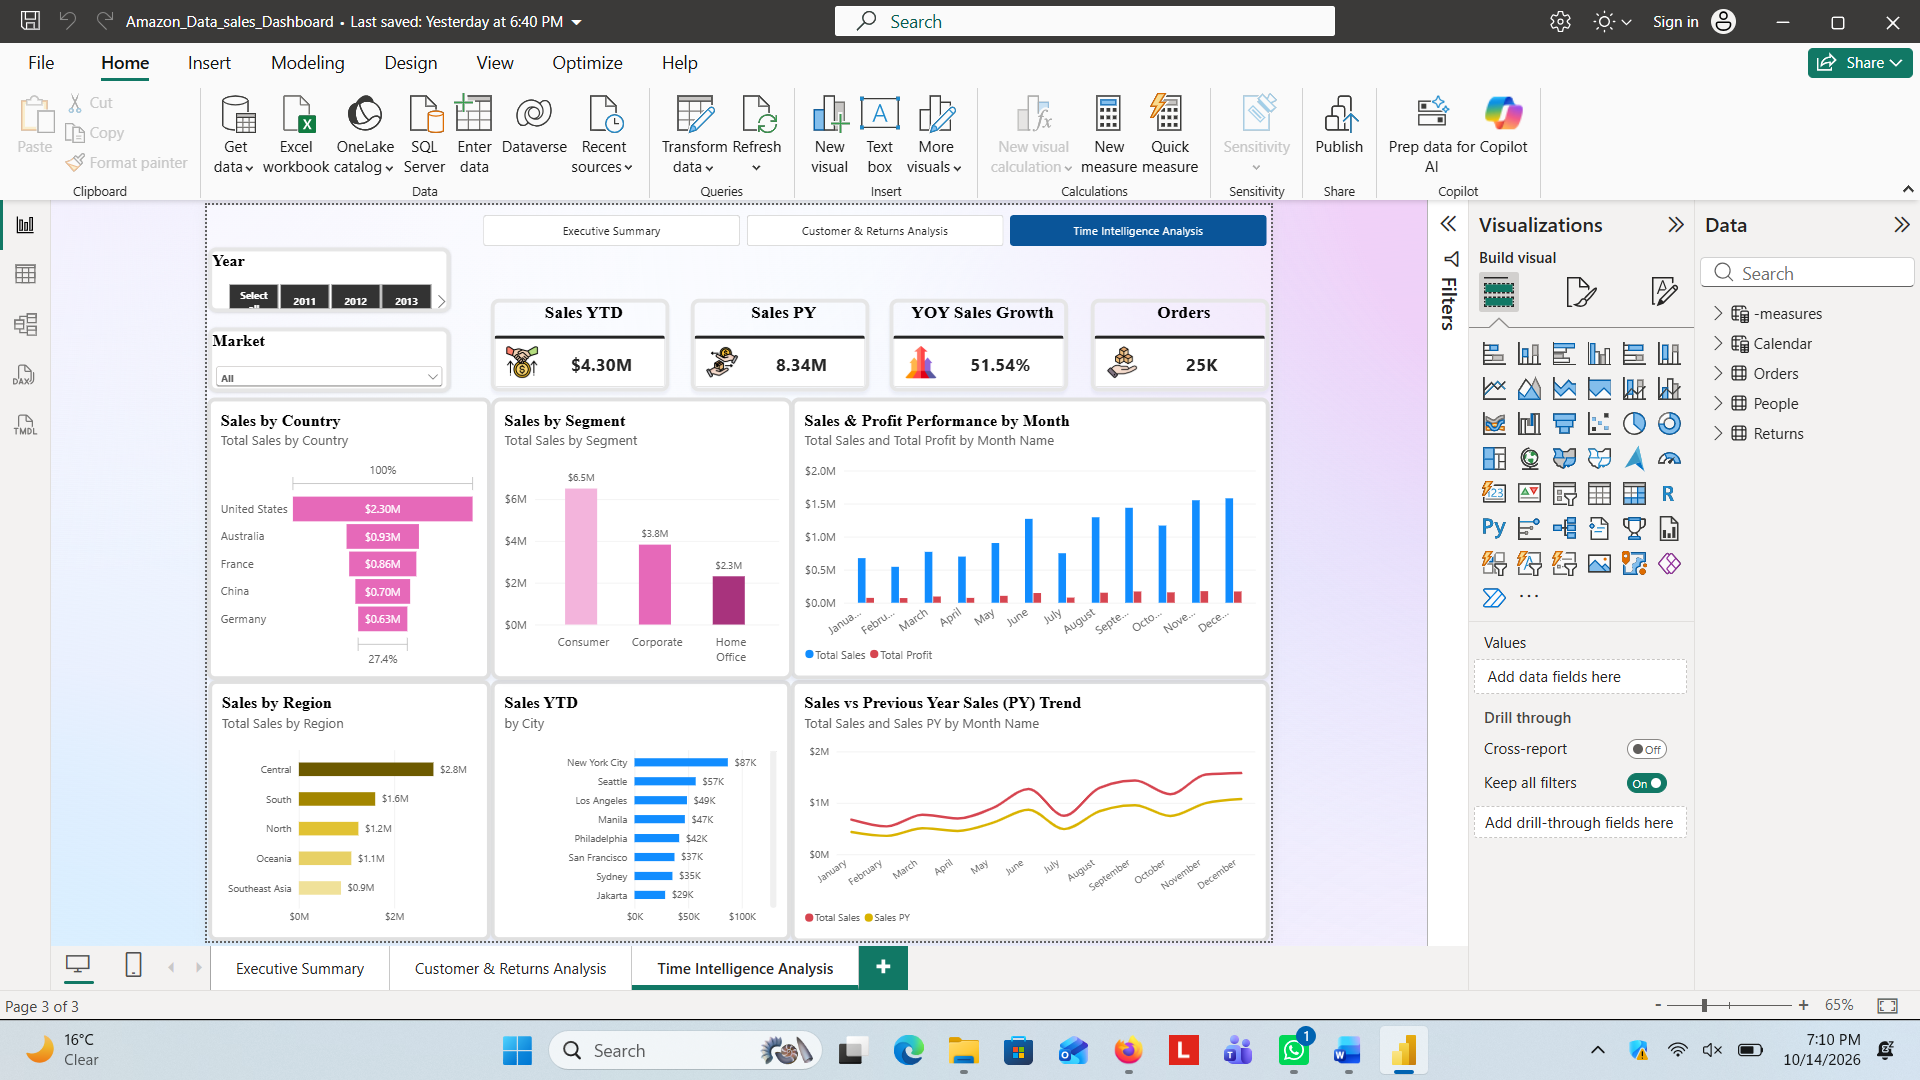

What the dashboard file says about the page in this screenshot:
{"tool":"powerbi","page":{"name":"Time Intelligence Analysis","canvas":[1300,900],"ordinal":2},"visuals":[{"type":"funnel","title":" Sales by Country","fields":{"Category":["Orders.Country"],"Y":["-measures.Total Sales"]},"box":[0,235.4,347,345.5],"z":0},{"type":"cardVisual","title":"Sales YTD","fields":{"Data":["-measures.Sales YTD"]},"box":[347,114.6,218.2,113.9],"z":1000},{"type":"cardVisual","title":"Sales PY","fields":{"Data":["-measures.Sales PY"]},"box":[591.5,114.6,218.2,113.9],"z":2000},{"type":"cardVisual","title":"YOY Sales Growth","fields":{"Data":["-measures.YoY Sales Growth"]},"box":[834.6,114.6,218.2,113.9],"z":3000},{"type":"cardVisual","title":"Orders","fields":{"Data":["-measures.Total Orders"]},"box":[1080.7,114.6,218.2,113.9],"z":4000},{"type":"lineChart","title":"Sales vs Previous Year Sales (PY) Trend ","fields":{"Category":["Calendar.Month Name"],"Y":["-measures.Total Sales","-measures.Sales PY"]},"box":[713.8,580.8,585.4,321],"z":5000},{"type":"clusteredColumnChart","title":" Sales & Profit Performance by Month ","fields":{"Category":["Calendar.Month Name"],"Y":["-measures.Total Sales","-measures.Total Profit"]},"box":[713.3,235.1,585.6,345.1],"z":6000},{"type":"clusteredBarChart","fields":{"Category":["Orders.City"],"Y":["-measures.Sales YTD"]},"box":[347,580.8,366.8,319.5],"z":7000},{"type":"columnChart","title":" Sales by Segment","fields":{"Category":["Orders.Segment"],"Y":["-measures.Total Sales"]},"box":[347,235.4,369.9,345.5],"z":8000},{"type":"clusteredBarChart","title":" Sales by Region","fields":{"Category":["Orders.Region"],"Y":["-measures.Total Sales"]},"box":[1.5,580.8,345.5,319.5],"z":9000},{"type":"slicer","title":"Year","fields":{"Values":["Calendar.Year"]},"box":[1.5,52,296.4,79.6],"z":10000},{"type":"slicer","title":"Market","fields":{"Values":["Orders.Market"]},"box":[1.5,149.8,296.4,79.6],"z":11000},{"type":"pageNavigator","box":[337.8,12.2,959.9,38.2],"z":11001}]}

Visuals, with their boxes on the page's 1300x900 design canvas (x1, y1, x2, y2). These are canvas units, not pixel positions in the 1920x1080 screenshot, which may show the page scaled, cropped or inside an application window:
" Sales by Country" funnel: (x1=0, y1=235, x2=347, y2=581)
"Sales YTD" cardVisual: (x1=347, y1=115, x2=565, y2=228)
"Sales PY" cardVisual: (x1=592, y1=115, x2=810, y2=228)
"YOY Sales Growth" cardVisual: (x1=835, y1=115, x2=1053, y2=228)
"Orders" cardVisual: (x1=1081, y1=115, x2=1299, y2=228)
"Sales vs Previous Year Sales (PY) Trend " lineChart: (x1=714, y1=581, x2=1299, y2=902)
" Sales & Profit Performance by Month " clusteredColumnChart: (x1=713, y1=235, x2=1299, y2=580)
clusteredBarChart - Orders.City x -measures.Sales YTD: (x1=347, y1=581, x2=714, y2=900)
" Sales by Segment" columnChart: (x1=347, y1=235, x2=717, y2=581)
" Sales by Region" clusteredBarChart: (x1=2, y1=581, x2=347, y2=900)
"Year" slicer: (x1=2, y1=52, x2=298, y2=132)
"Market" slicer: (x1=2, y1=150, x2=298, y2=229)
pageNavigator: (x1=338, y1=12, x2=1298, y2=50)
